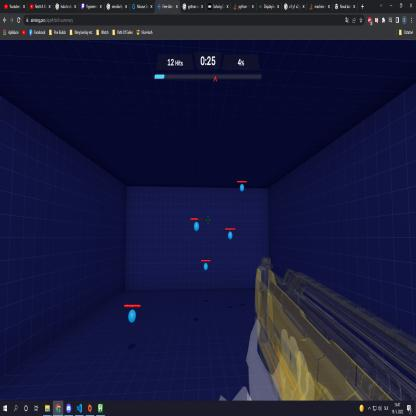sphere: (128, 308, 137, 323), (193, 222, 200, 231), (203, 262, 209, 271), (240, 183, 245, 192), (228, 231, 233, 240)
